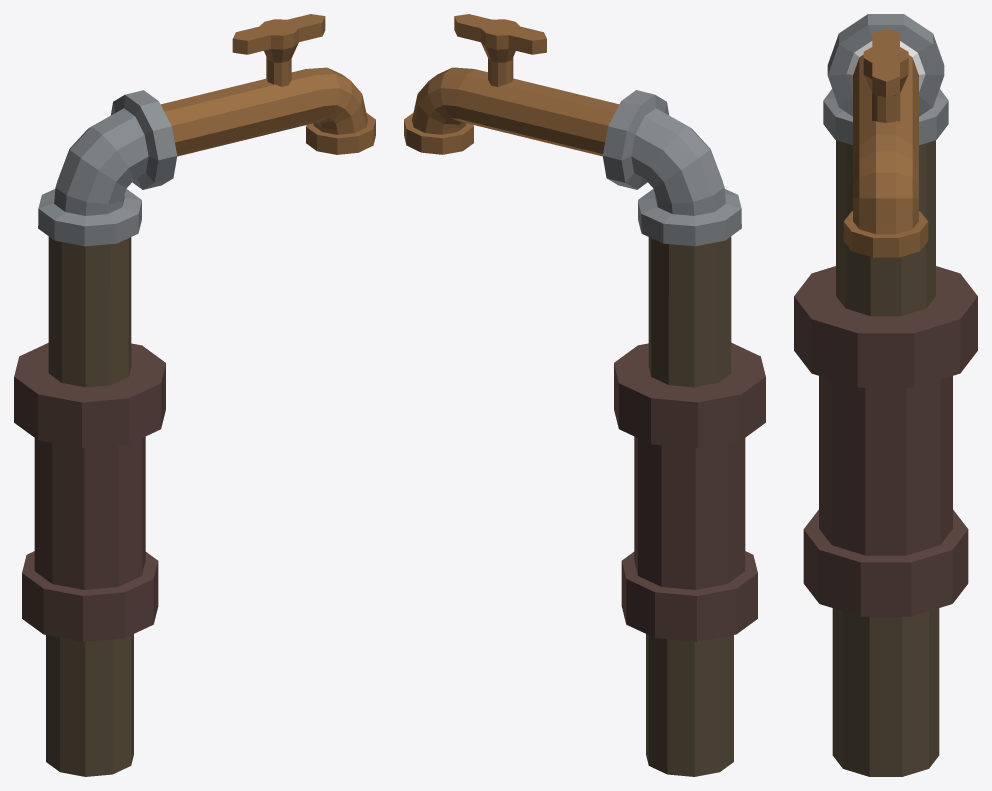
The model's file is MESH_ENV_Torneira.fbx.
The picture shows the model from 3 angles, left to right: view 1: azimuth 30°, elevation 25°; view 2: azimuth 150°, elevation 25°; view 3: azimuth 270°, elevation 25°; orthographic projection. The views are drawn at different scales.
Parts seen in each view (by area): view 1: torneira; view 2: torneira; view 3: torneira.
Boxes of the visible parts, x1,y1,x2,y2 form: torneira: [14, 14, 375, 776]; torneira: [404, 14, 765, 776]; torneira: [794, 14, 977, 776].
Size of the model in its own units: 30.67 by 58.29 by 11.99.
